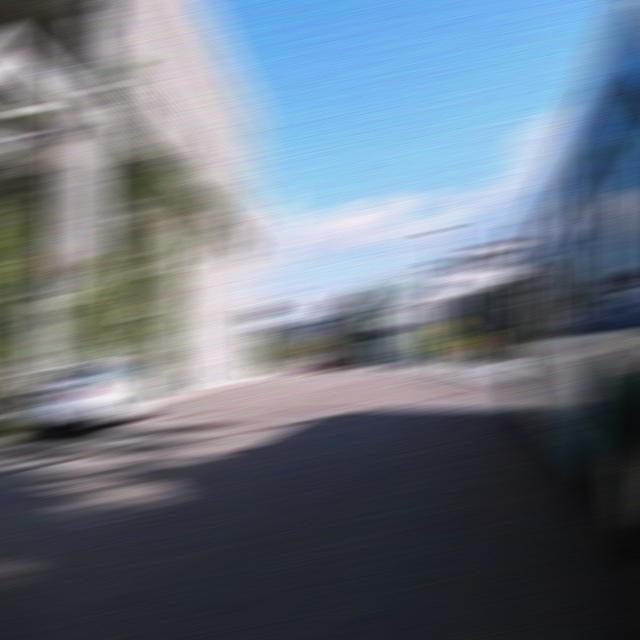pedestrianCrossing: (434, 319, 464, 333)
